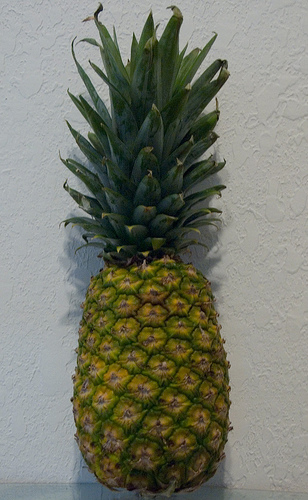pineapple: (61, 7, 232, 498)
